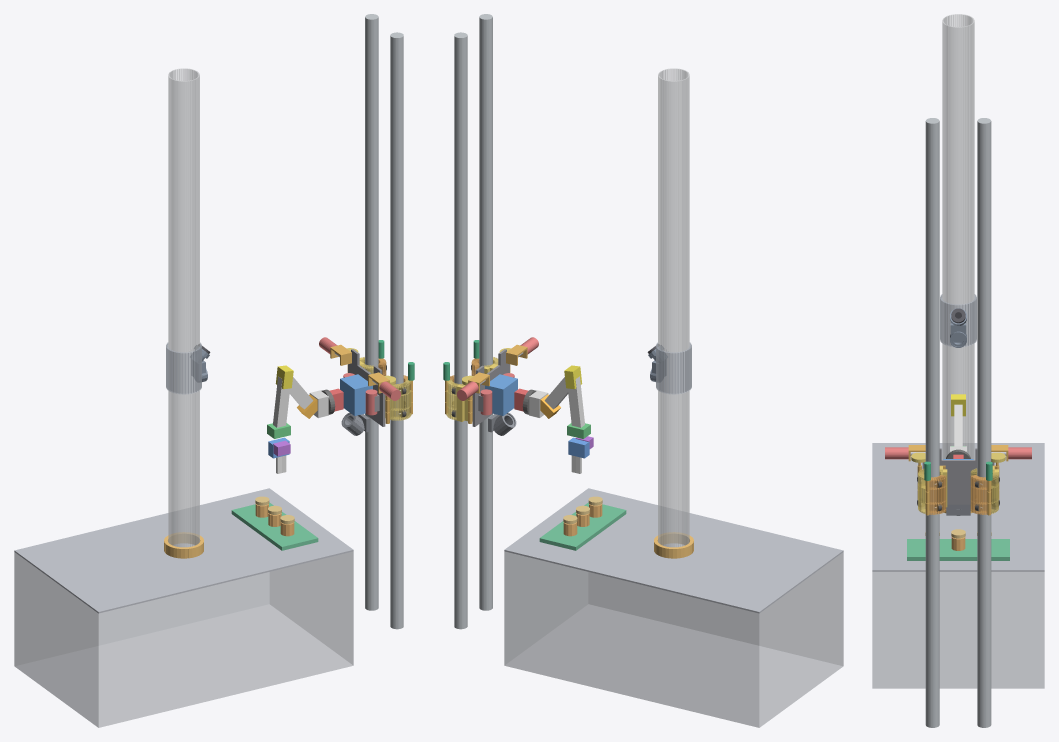
Rendered from transplant-seedling-start-v3.glb.
3 renders of one model, left to right at view 1: azimuth 30°, elevation 25°; view 2: azimuth 150°, elevation 25°; view 3: azimuth 270°, elevation 25°, orthographic. The views are drawn at different scales.
Bounding box in the file's own units: 0.94 × 1.55 × 0.4.
